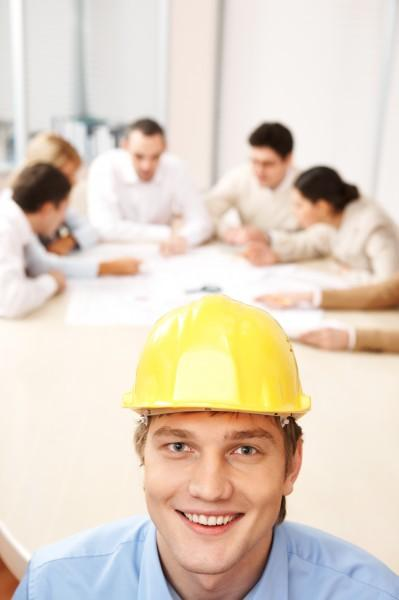helmet: (130, 297, 303, 416)
